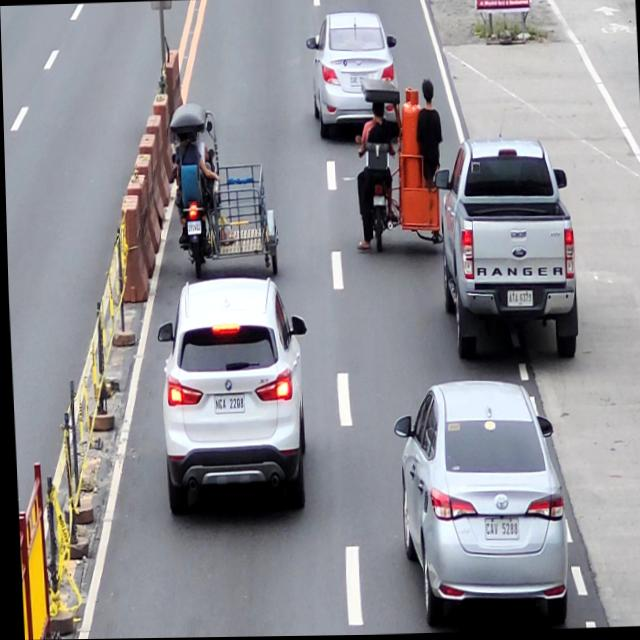Car: (388, 377, 568, 630), (152, 277, 312, 520), (431, 138, 577, 365), (304, 13, 400, 142)
License-Plate: (480, 518, 516, 542), (211, 394, 243, 414), (505, 291, 532, 309), (185, 221, 201, 235), (349, 75, 369, 86), (371, 195, 383, 206)
Tricycle: (168, 100, 279, 279), (356, 79, 445, 257)
